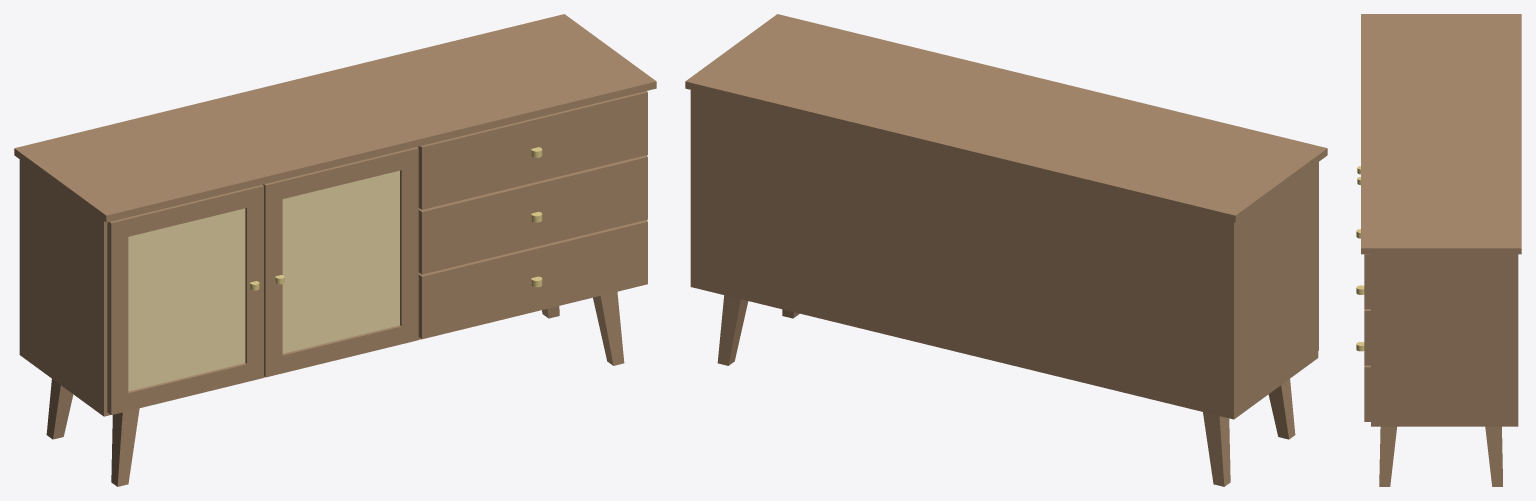
Rendered from sideboard.glb.
3 views of the same model, side by side, from view 1: azimuth 30°, elevation 25°; view 2: azimuth 150°, elevation 25°; view 3: azimuth 270°, elevation 25° (orthographic). The views are drawn at different scales.
Visible parts, largest first — view 1: wood, cane; view 2: wood; view 3: wood, brass.
Part boxes in pixels (x1=…): wood: x1=14, y1=14, x2=656, y2=486; cane: x1=128, y1=170, x2=399, y2=391; wood: x1=685, y1=14, x2=1327, y2=486; wood: x1=1361, y1=14, x2=1521, y2=486; brass: x1=1356, y1=166, x2=1364, y2=351.
Bounding box in the file's own units: 1.62 × 0.8 × 0.483.
